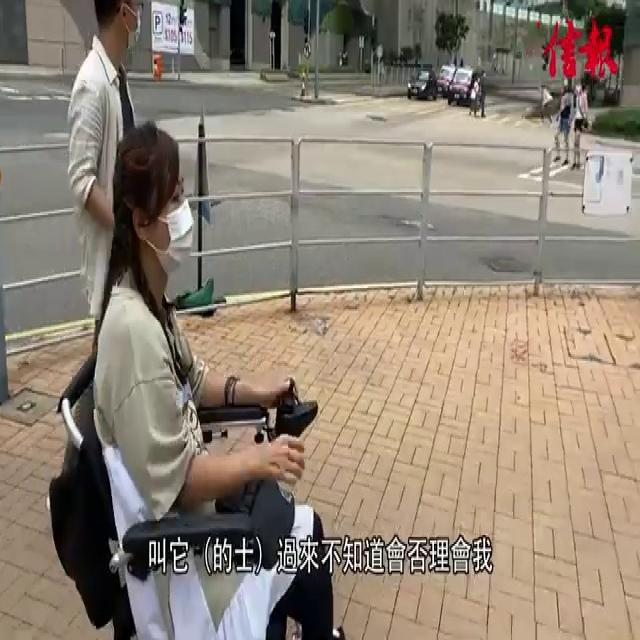wheelchairs: (41, 331, 348, 640)
